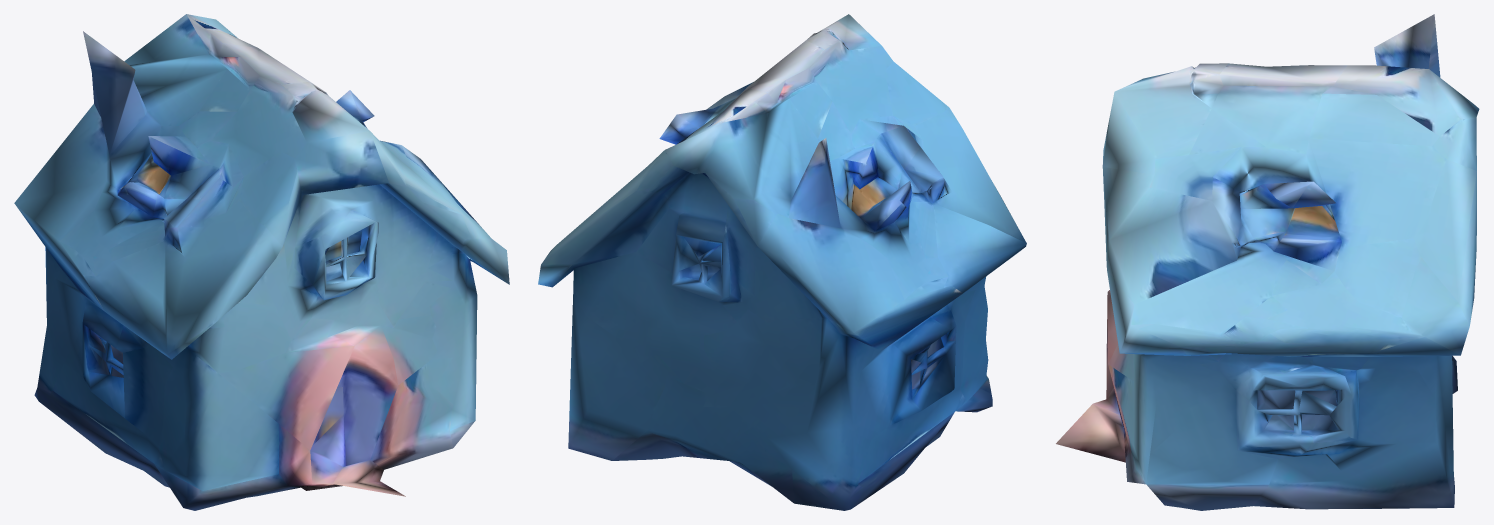
File: house_blue.glb
3 views of the same model, side by side, from view 1: azimuth 30°, elevation 25°; view 2: azimuth 150°, elevation 25°; view 3: azimuth 270°, elevation 25° (orthographic). The views are drawn at different scales.
Parts seen in each view (by area): view 1: tripo_node_5cff31d4-db29-4f8d-a6e6-32667511a8d7; view 2: tripo_node_5cff31d4-db29-4f8d-a6e6-32667511a8d7; view 3: tripo_node_5cff31d4-db29-4f8d-a6e6-32667511a8d7.
Part boxes in pixels (x1,y1,x2,y2): tripo_node_5cff31d4-db29-4f8d-a6e6-32667511a8d7: (14, 14, 509, 510); tripo_node_5cff31d4-db29-4f8d-a6e6-32667511a8d7: (538, 14, 1026, 510); tripo_node_5cff31d4-db29-4f8d-a6e6-32667511a8d7: (1056, 14, 1479, 510).
Size of the model in its own units: 0.9111 by 0.9423 by 0.9515.
1 material, 1 textured.
